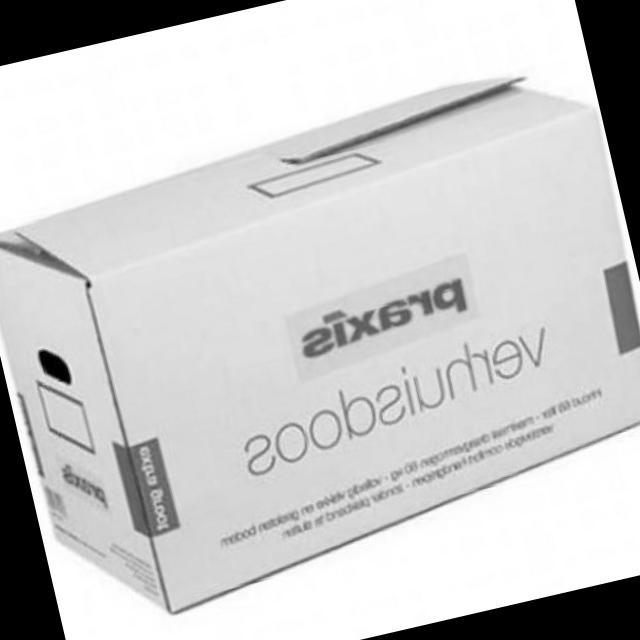box: (0, 45, 640, 639)
